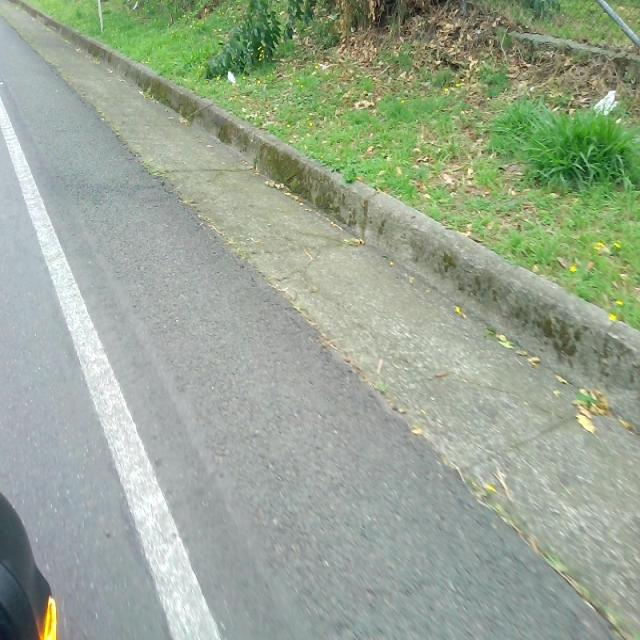DITCH: (1, 1, 638, 638), (10, 49, 638, 638), (67, 64, 638, 638)
